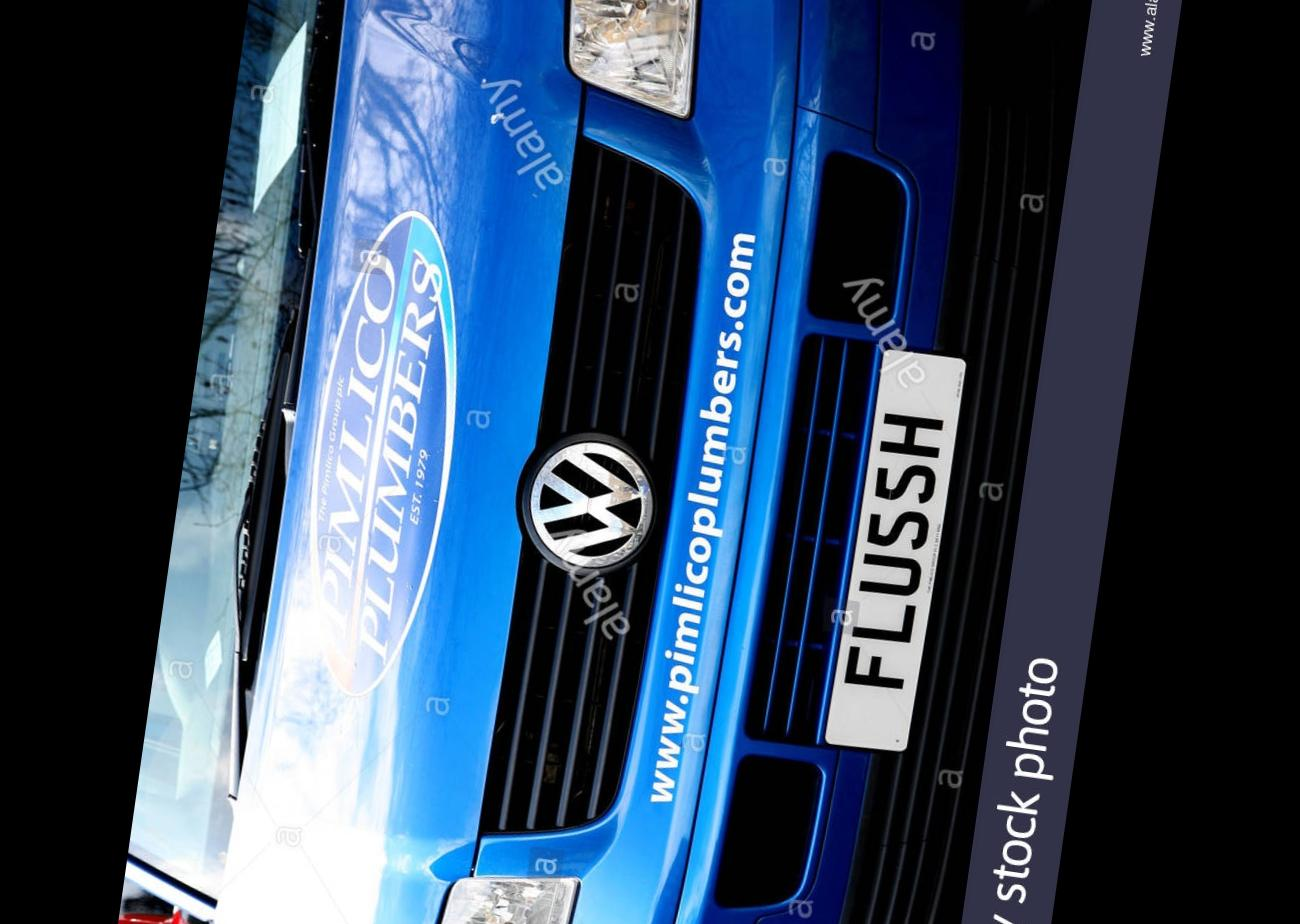plate: (823, 344, 988, 758)
